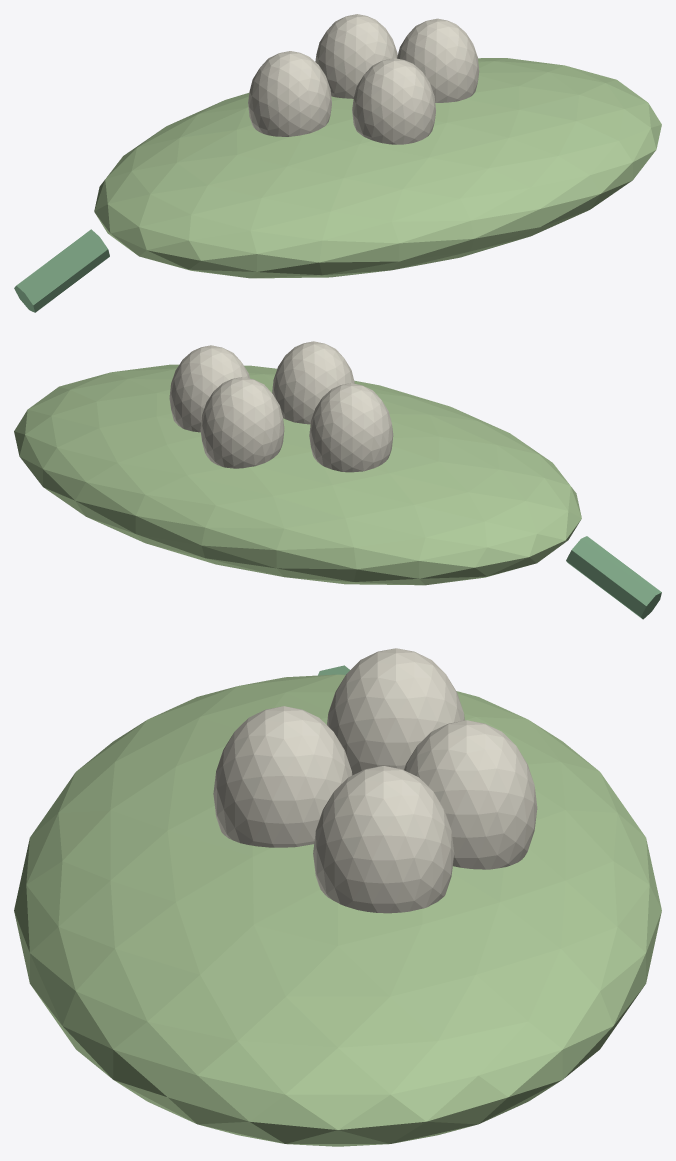
The model's file is leaf_nursery.glb.
3 views of the same model, one above another, from view 1: azimuth 30°, elevation 25°; view 2: azimuth 150°, elevation 25°; view 3: azimuth 270°, elevation 25° (orthographic). The views are drawn at different scales.
Parts seen in each view (by area): view 1: Cradle, Egg_1, Egg_0, Egg_2, Egg_3, Stem; view 2: Cradle, Egg_3, Egg_0, Egg_1, Egg_2, Stem; view 3: Cradle, Egg_2, Egg_1, Egg_3, Egg_0.
Boxes of the visible parts, x1,y1,x2,y2 form: Cradle: (94, 58, 661, 278); Egg_1: (352, 58, 435, 144); Egg_0: (248, 51, 331, 136); Egg_2: (397, 18, 479, 102); Egg_3: (315, 14, 397, 98); Stem: (14, 229, 109, 312); Cradle: (14, 364, 581, 585); Egg_3: (200, 377, 284, 468); Egg_0: (309, 383, 393, 472); Egg_1: (272, 341, 354, 424); Egg_2: (169, 345, 249, 432); Stem: (566, 536, 661, 619); Cradle: (14, 674, 661, 1146); Egg_2: (313, 766, 454, 913); Egg_1: (213, 706, 352, 847); Egg_3: (404, 720, 537, 869); Egg_0: (327, 648, 464, 775).
Bounding box in the file's own units: 2.93 × 0.7914 × 1.56.
